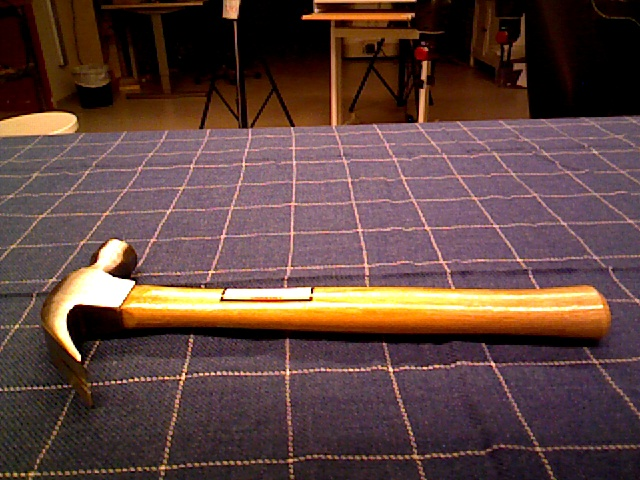hammer1: (41, 238, 612, 411)
